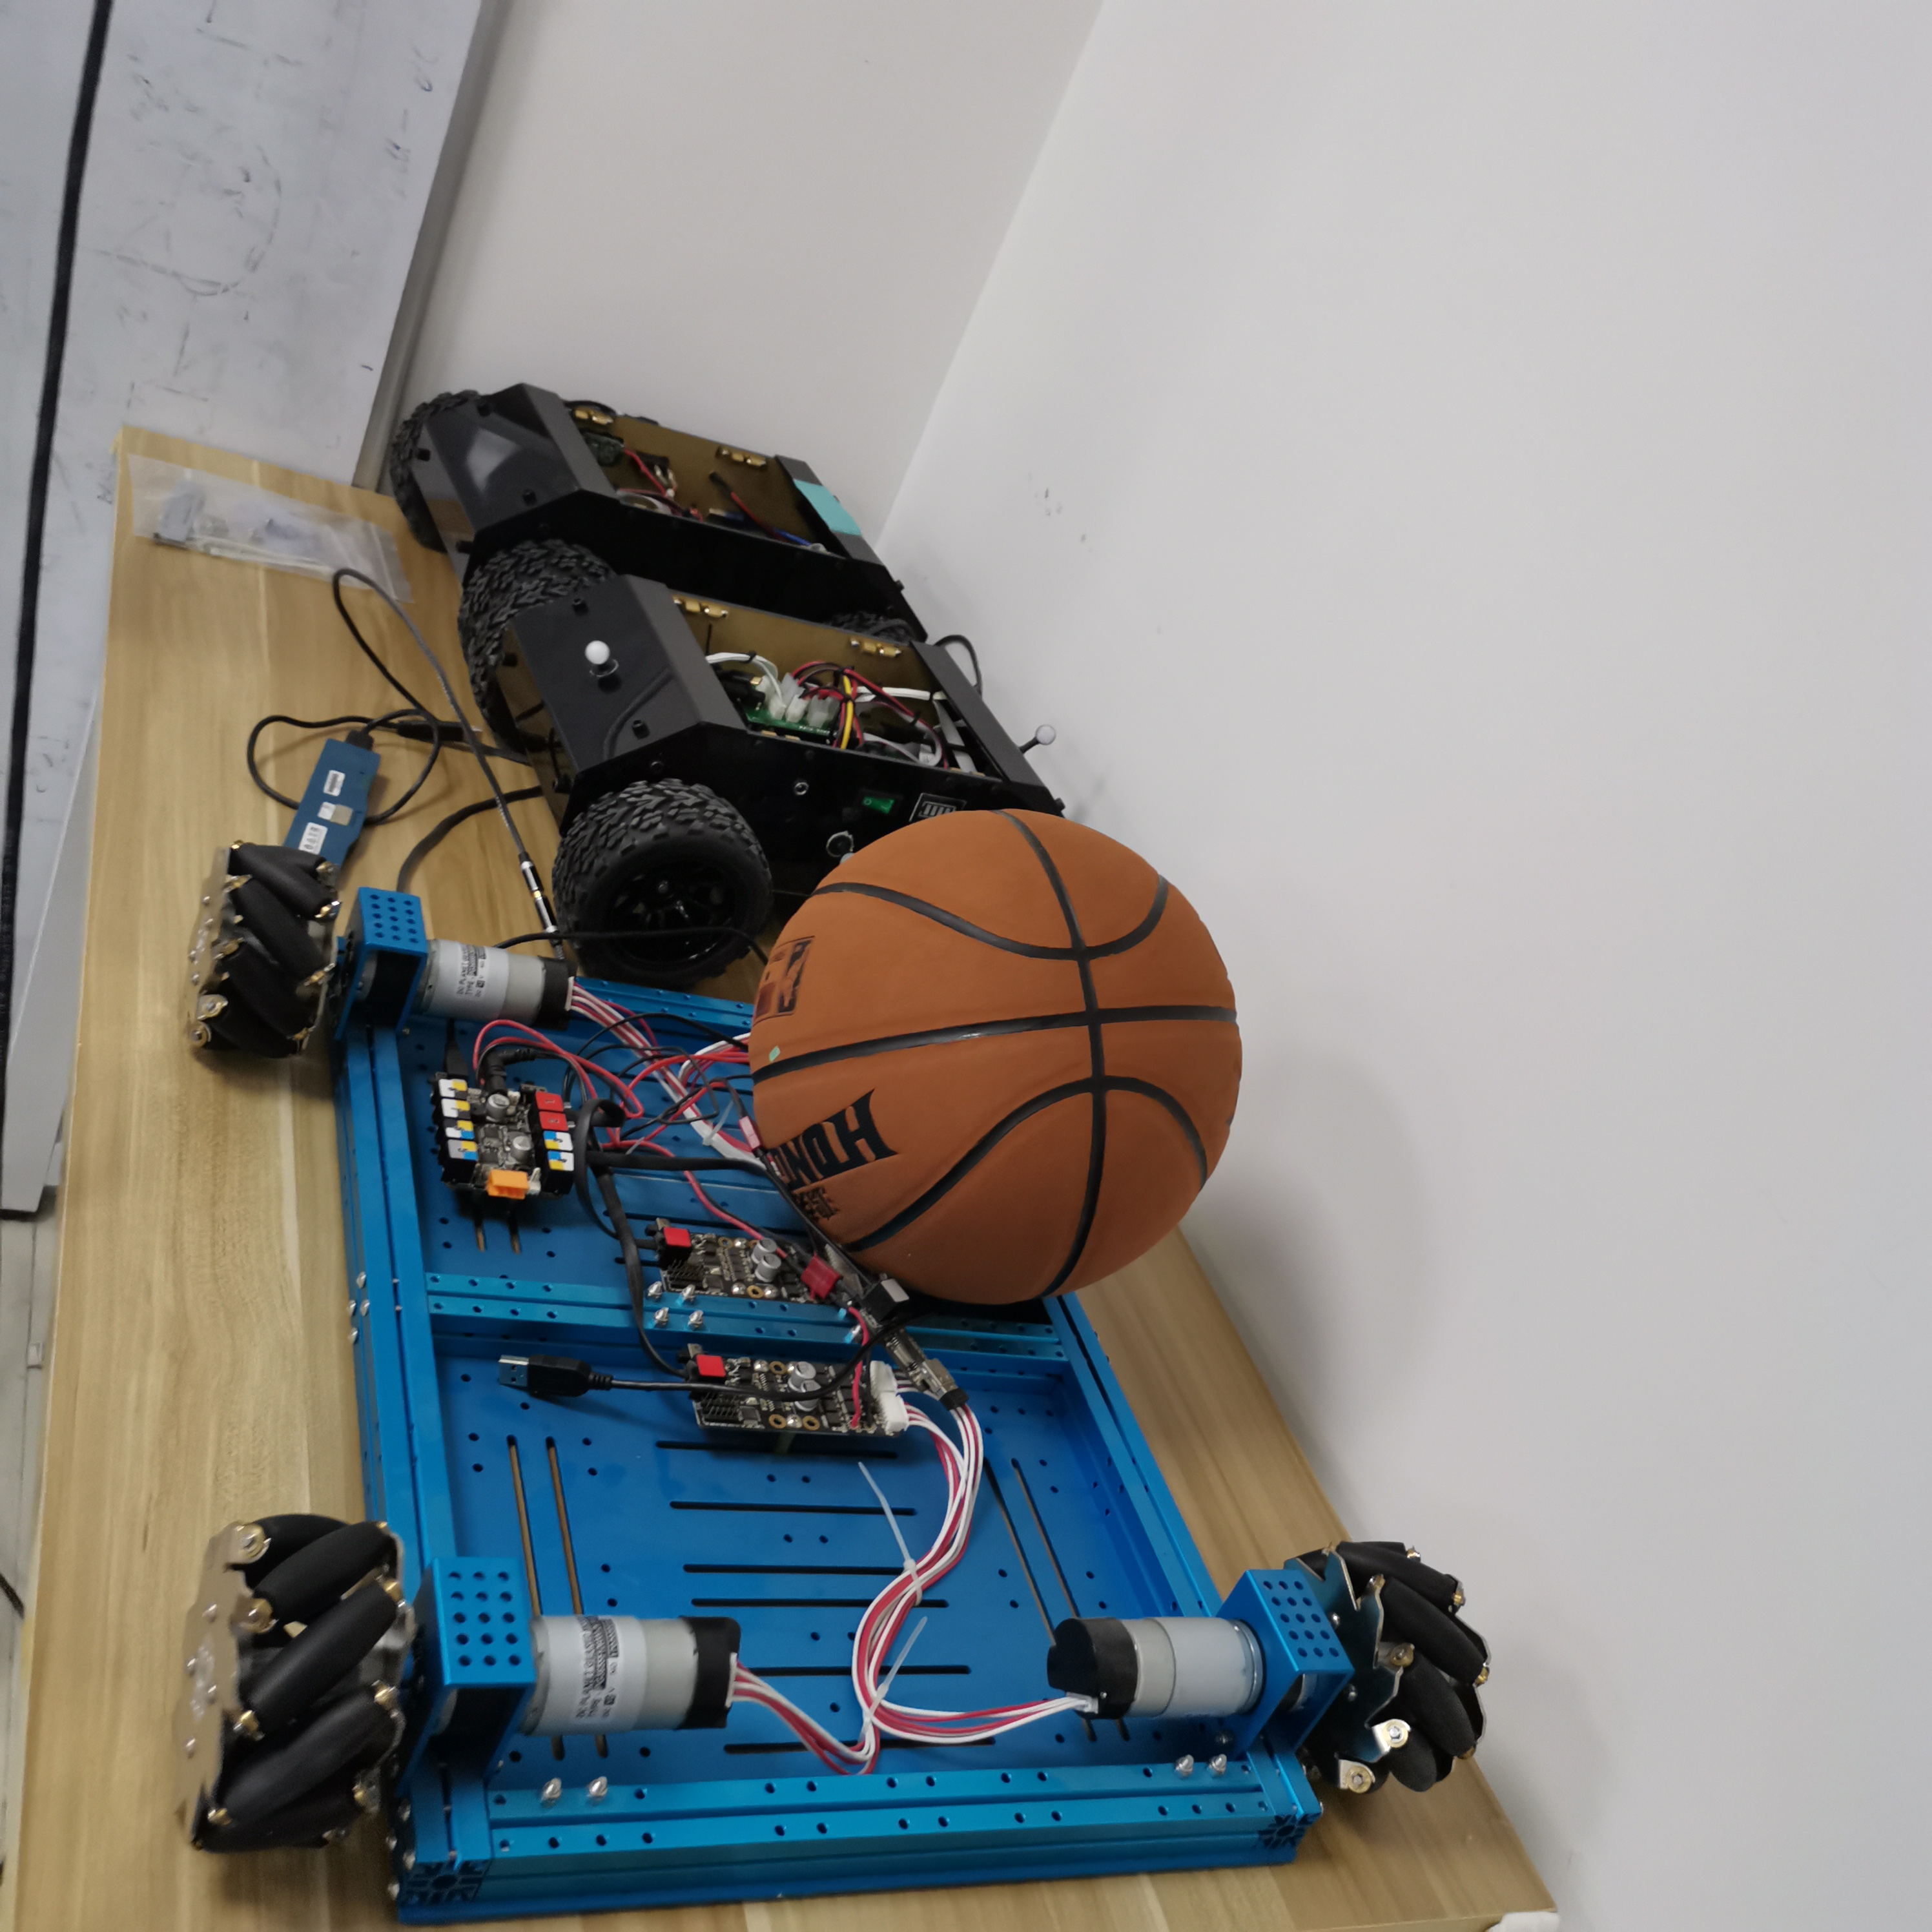basketball: (748, 805, 1238, 1299)
